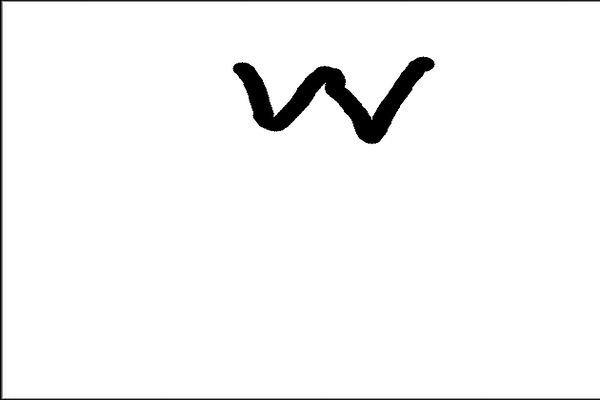w: (217, 39, 453, 156)
